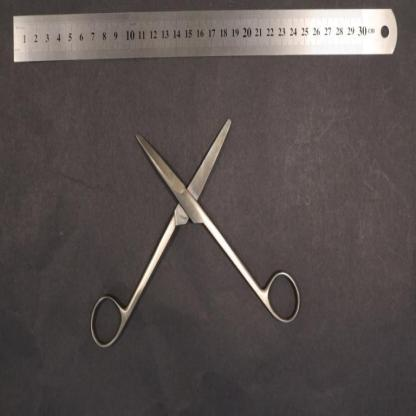Curved Mayo Scissors: (88, 117, 302, 352)
